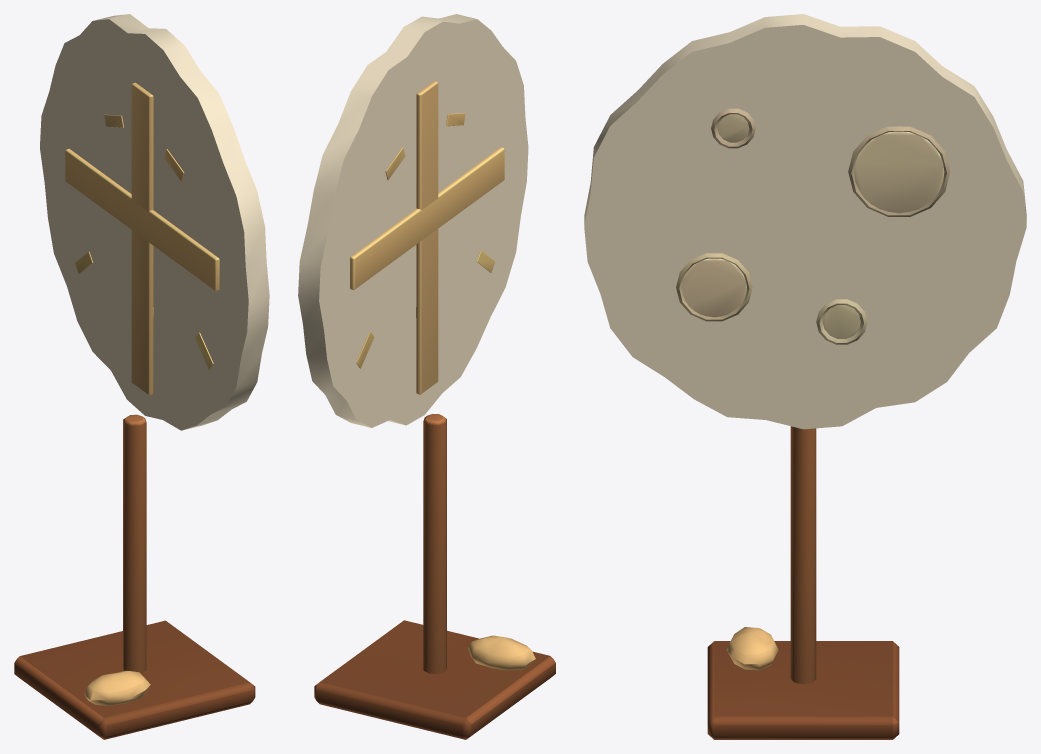
File: SM_Set_CardboardMoon.fbx
3 views of the same model, side by side, from view 1: azimuth 30°, elevation 25°; view 2: azimuth 150°, elevation 25°; view 3: azimuth 270°, elevation 25° (orthographic). The views are drawn at different scales.
Parts seen in each view (by area): view 1: SM_Set_CardboardMoon; view 2: SM_Set_CardboardMoon; view 3: SM_Set_CardboardMoon.
Part boxes in pixels (bbox=[...]): SM_Set_CardboardMoon: bbox=[14, 14, 269, 739]; SM_Set_CardboardMoon: bbox=[298, 14, 555, 739]; SM_Set_CardboardMoon: bbox=[584, 14, 1026, 739].
Bounding box in the file's own units: 60.1 × 240 × 139.
